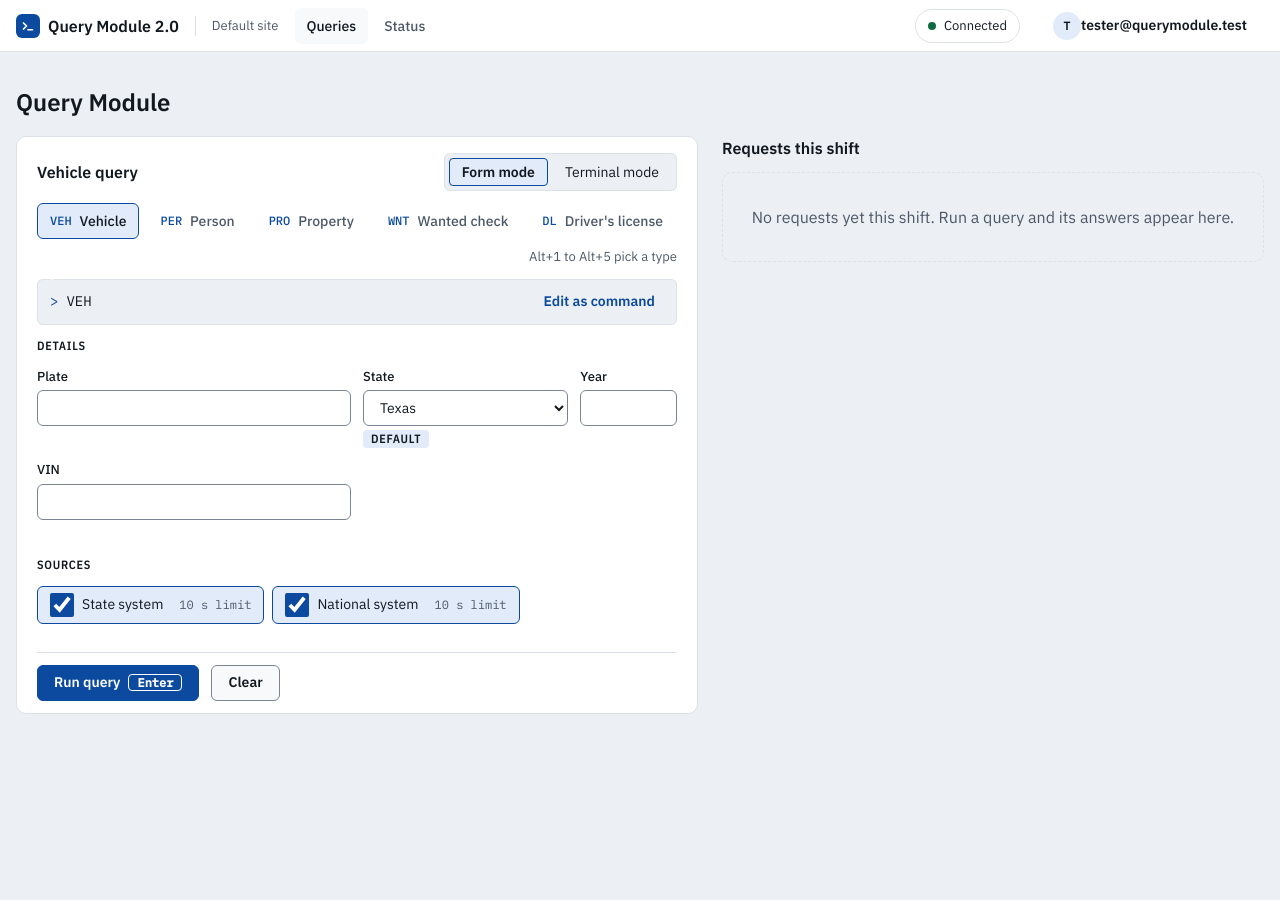
Test: edit as new query after a 409 (#477) › the note goes away when the user clears the form
expect the field labelled "Plate" is shown: met, box [37,390,351,426]
In the field labelled "Year": point(629, 408) [580,390,677,426], type "2024"
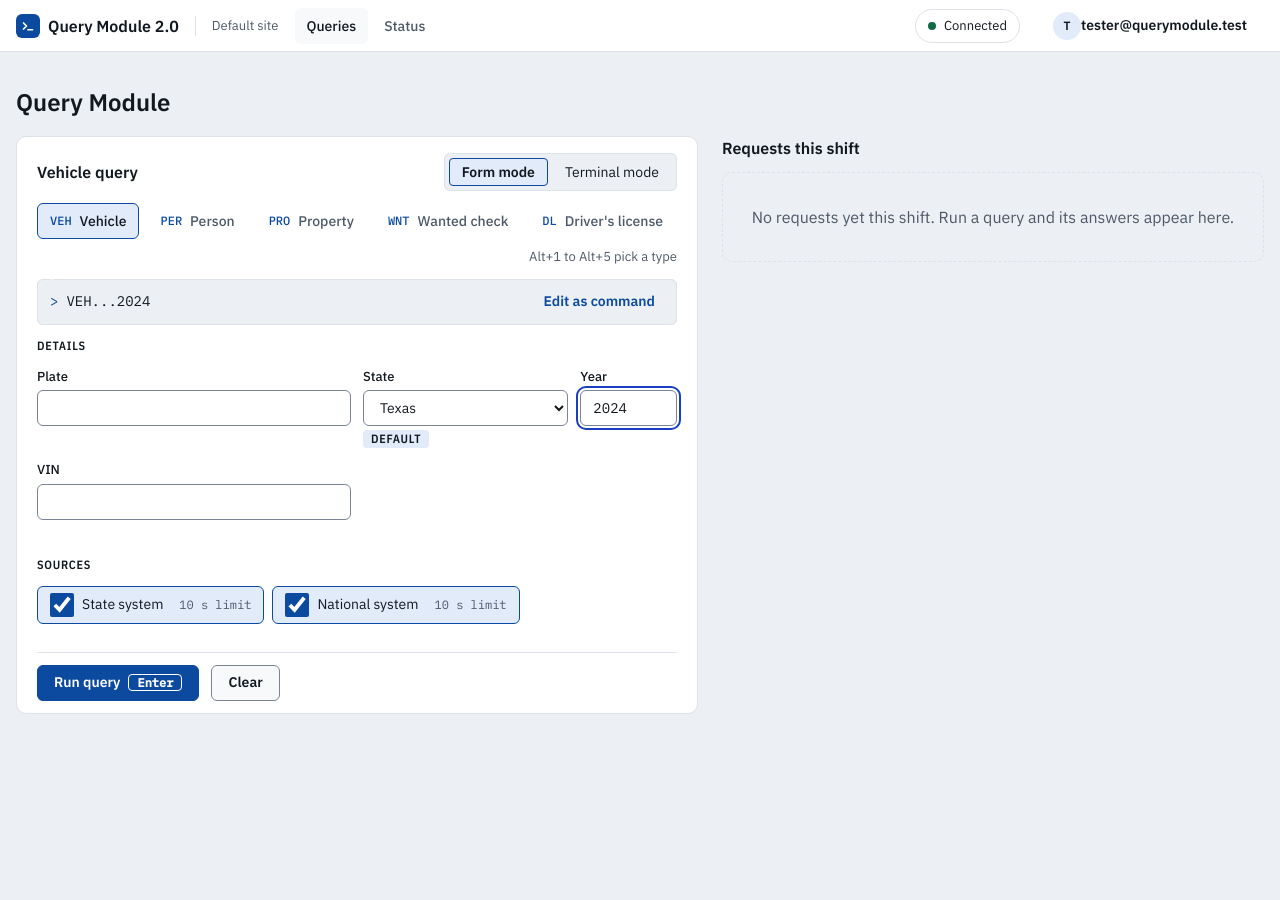
In the field labelled "Plate": point(194, 408) [37,390,351,426], type "ZZ-0001"
Then press Enter
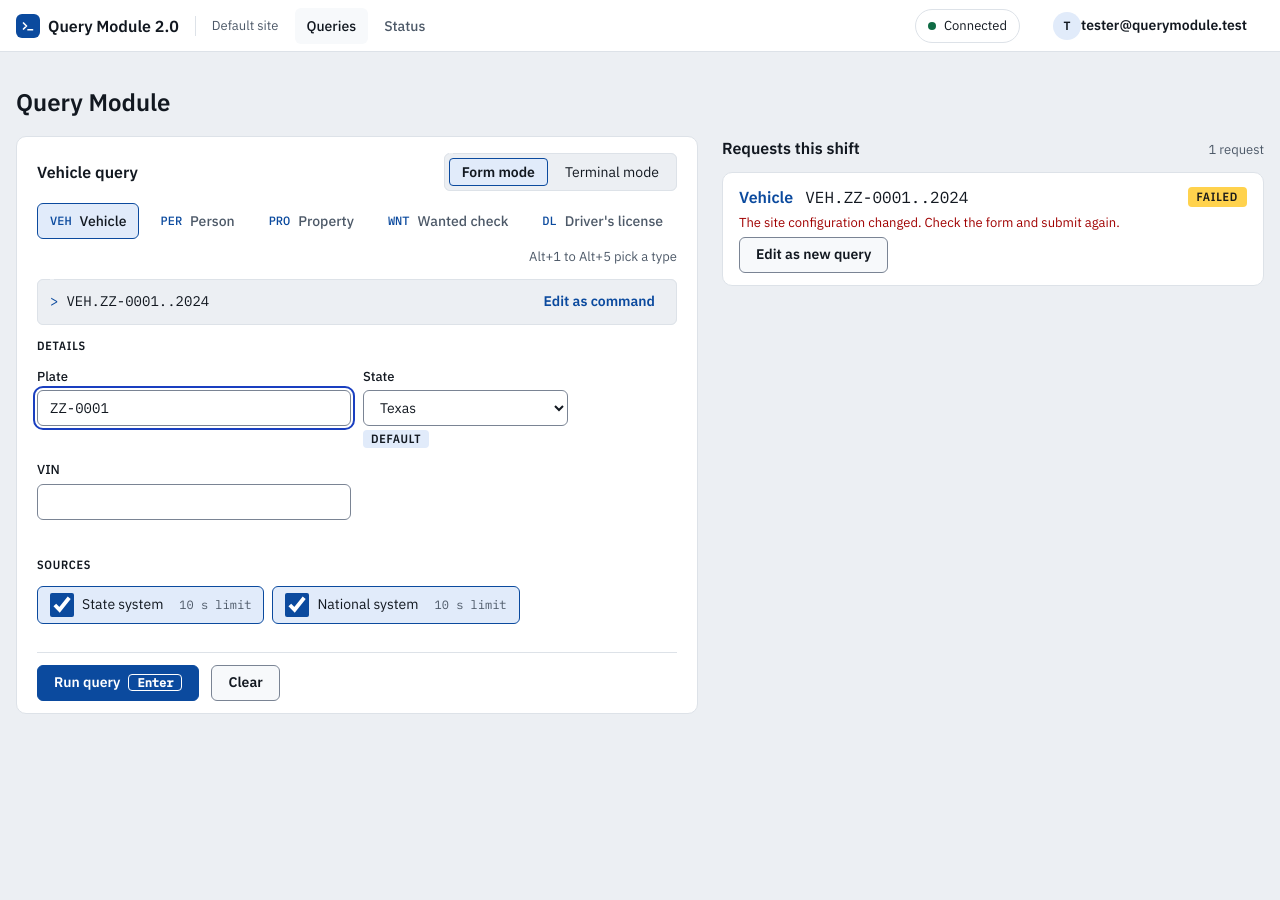
expect the button "Edit as new query" is shown: met
expect the label labelled "Year" is gone: met
Click the button with aria-label "Edit as new query: Vehicle ZZ-0001": point(814, 255) [739,237,888,273]
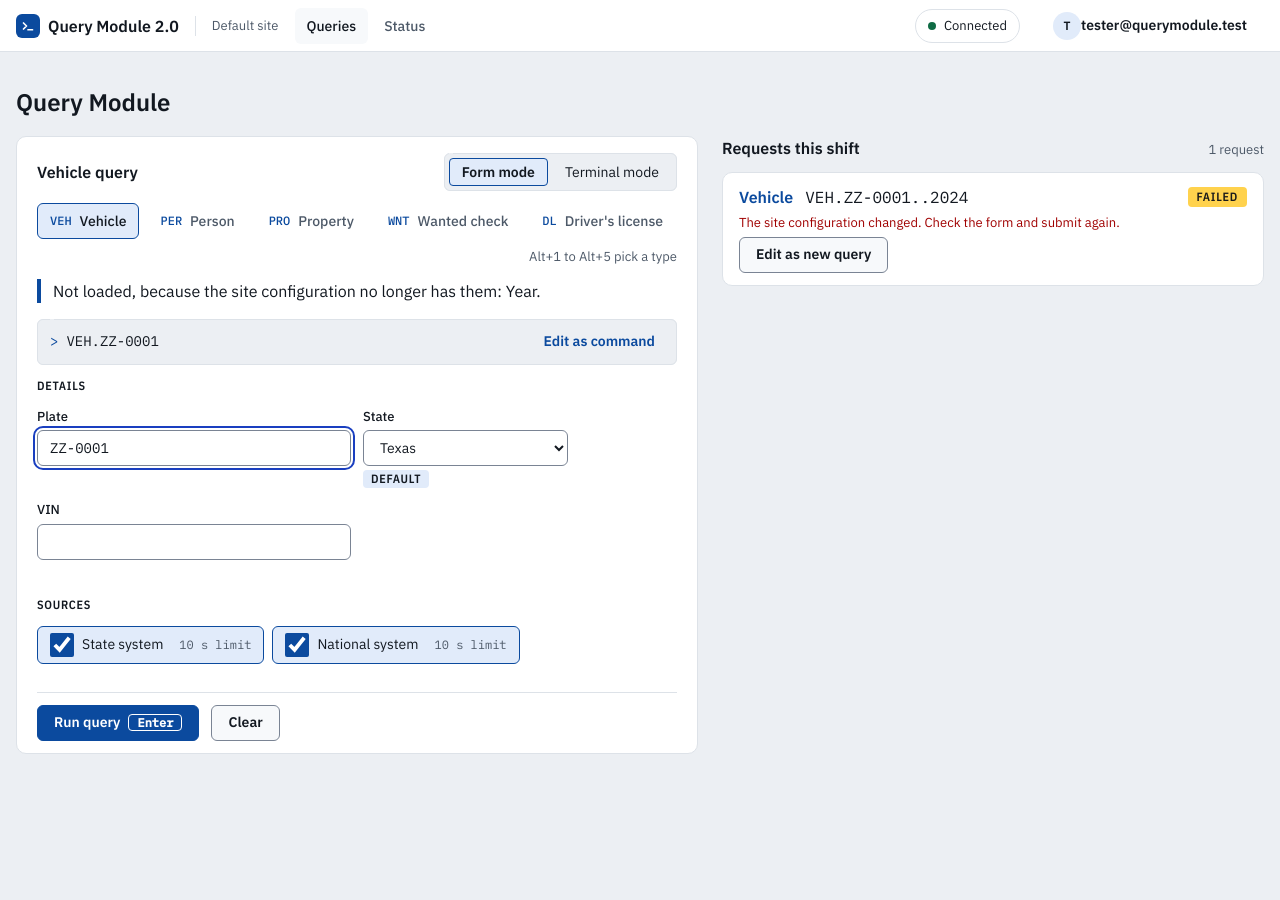
expect the text with test id "edit-as-new-note" is shown: met, box [37,279,677,303]
Click the button "Clear": point(246, 723) [212,705,280,741]
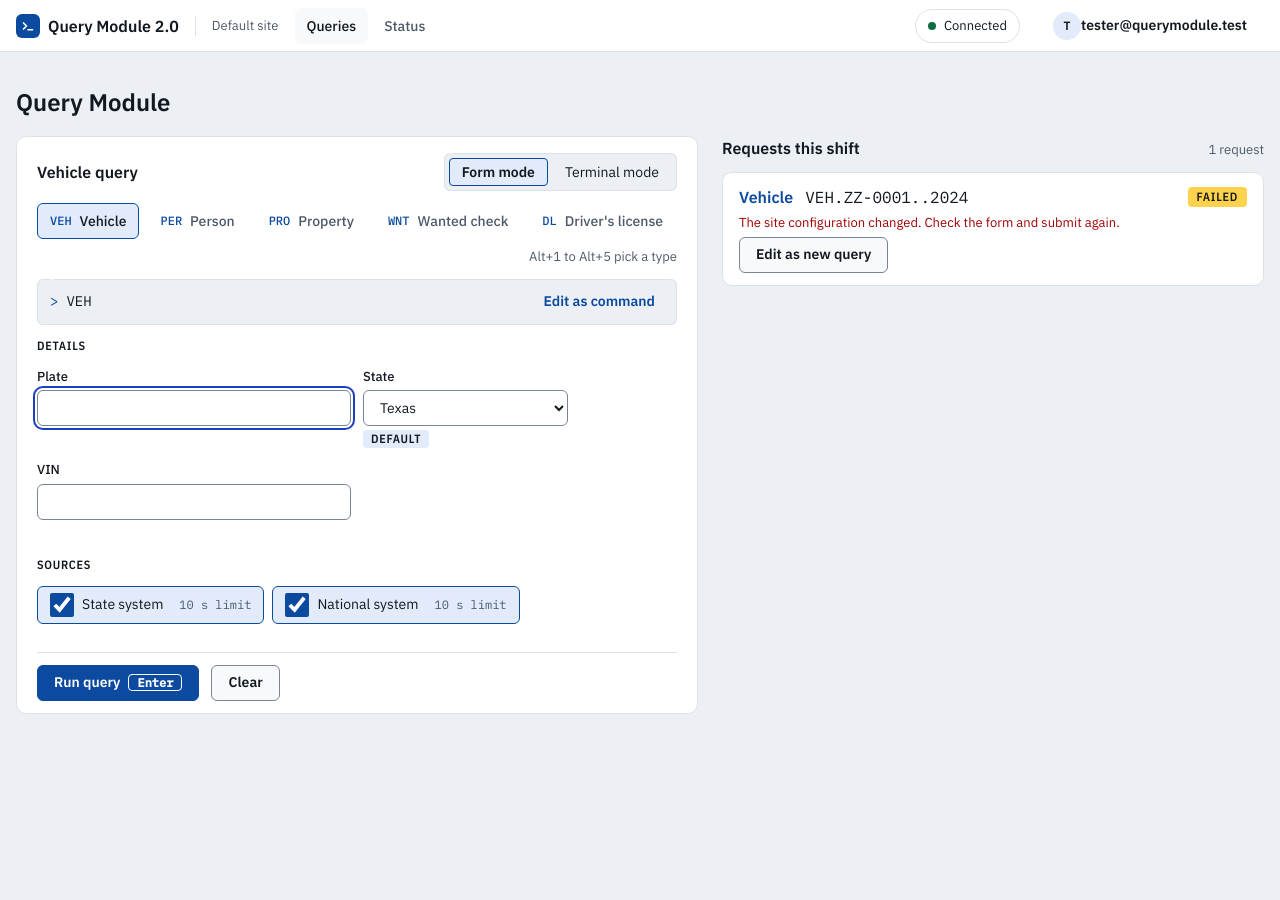
expect the text with test id "edit-as-new-note" is gone: met
